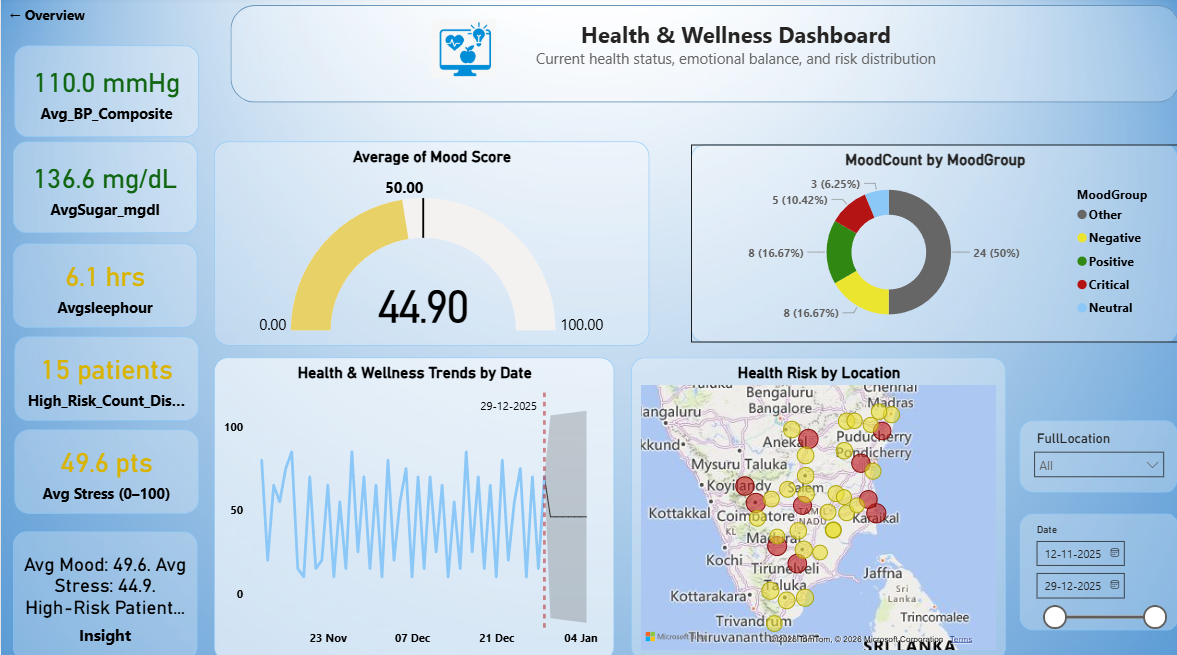

Layout of this report page (visuals, bound fields, positions):
{"tool":"powerbi","page":{"name":"Health & Wellness","canvas":[1280,720],"ordinal":1},"visuals":[{"type":"gauge","fields":{"Y":["Avg(Mood_Stress_Log.Mood Score)"]},"box":[231,157.8,471.7,221.2],"z":0},{"type":"donutChart","fields":{"Y":["Mood_Stress_Log.MoodCount"],"Category":["Mood_Stress_Log.MoodGroup"]},"box":[748.2,161,528.6,214.7],"z":1000},{"type":"lineChart","title":"Health & Wellness Trends by Date","fields":{"Category":["Mood_Stress_Log.Date"],"Y":["Avg(Mood_Stress_Log.Mood Score)"]},"box":[231,392,434.3,328.6],"z":2000},{"type":"map","title":"Health Risk by Location","fields":{"Category":["Patients.FullLocation"],"Size":["Health_Metrics (2).RiskScore"]},"box":[683.1,392,406.6,328.6],"z":3000},{"type":"slicer","title":"full location slicer","fields":{"Values":["Patients.FullLocation"]},"box":[1104.4,460.3,172.4,78.1],"z":4000},{"type":"slicer","title":"date slicer","fields":{"Values":["Mood_Stress_Log.Date"]},"box":[1104.4,561.2,174,126.9],"z":5000},{"type":"card","title":"AvgMoodScore","fields":{"Values":["Health_Metrics (2).AvgSugar_mgdl"]},"box":[13,157.8,200.1,99.2],"z":6000},{"type":"card","title":"AvgMoodScore","fields":{"Values":["Health_Metrics (2).Avgsleephour"]},"box":[13,268.4,200.1,91.1],"z":7000},{"type":"card","title":"AvgMoodScore","fields":{"Values":["Health_Metrics (2).High_Risk_Count_Display"]},"box":[14.6,369.2,200.1,91.1],"z":8000},{"type":"card","title":"AvgStressLevel","fields":{"Values":["Mood_Stress_Log.Averagstresslevel"]},"box":[14.6,470.1,200.1,91.1],"z":9000},{"type":"shape","box":[248.9,9.8,1031.2,105.7],"z":10000},{"type":"card","fields":{"Values":["Health_Metrics (2).Executive_Insight"]},"box":[13,580.7,200.1,139.9],"z":11000},{"type":"image","box":[466.8,14.6,69.9,84.6],"z":12000},{"type":"card","title":"AvgMoodScore","fields":{"Values":["Health_Metrics (2).Avg_BP_Composite"]},"box":[14.6,53.7,200.1,99.2],"z":13000},{"type":"actionButton","box":[0,0,100,40],"z":14000},{"type":"textbox","box":[372.5,19.5,849.1,73.2],"z":14001}]}

Visuals, with their boxes in screenshot pixels (x1, y1, x2, y2), scaled from the page's 1280x720 canvas onto the 1177x655 screenshot:
gauge - Avg(Mood_Stress_Log.Mood Score): <box>212,144,646,345</box>
donutChart - Mood_Stress_Log.MoodCount x Mood_Stress_Log.MoodGroup: <box>688,146,1174,342</box>
"Health & Wellness Trends by Date" lineChart: <box>212,357,612,654</box>
"Health Risk by Location" map: <box>628,357,1002,654</box>
"full location slicer" slicer: <box>1016,419,1174,490</box>
"date slicer" slicer: <box>1016,511,1176,626</box>
"AvgMoodScore" card: <box>12,144,196,234</box>
"AvgMoodScore" card: <box>12,244,196,327</box>
"AvgMoodScore" card: <box>13,336,197,419</box>
"AvgStressLevel" card: <box>13,428,197,511</box>
shape: <box>229,9,1176,105</box>
card - Health_Metrics (2).Executive_Insight: <box>12,528,196,654</box>
image: <box>429,13,494,90</box>
"AvgMoodScore" card: <box>13,49,197,139</box>
actionButton: <box>0,0,92,36</box>
textbox: <box>343,18,1123,84</box>
